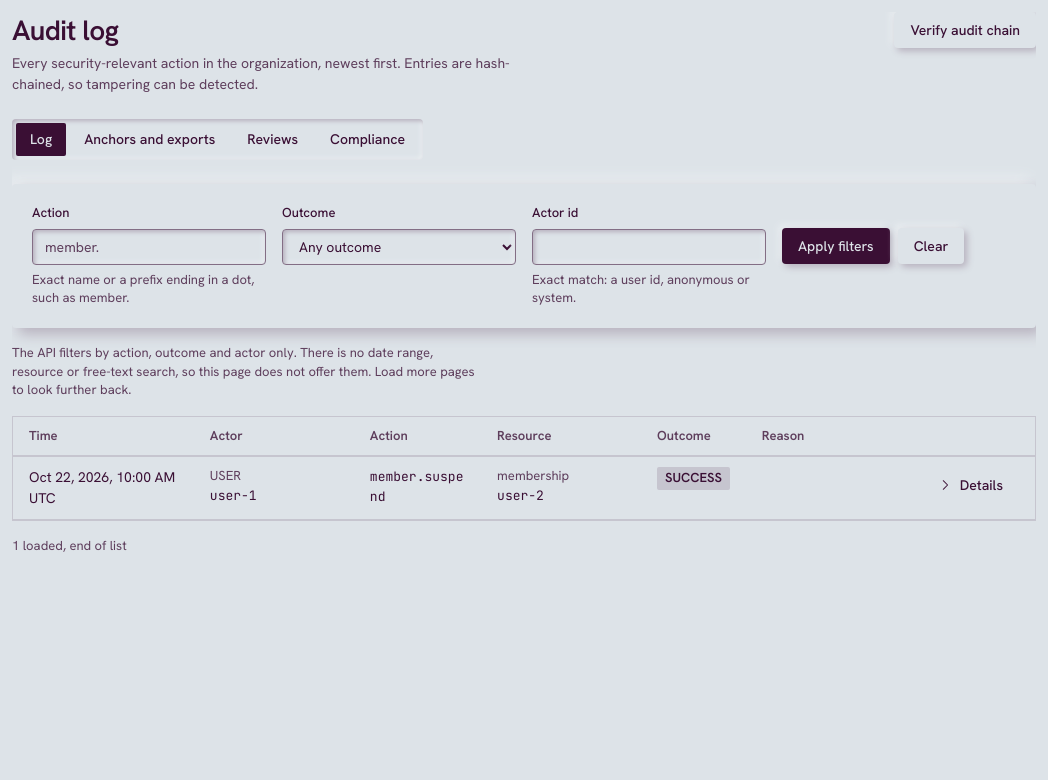
Test: AuditScreen › tells the user about a bad action filter and does not send it
Expected: the text "member.suspend" is shown, [354,456,481,520]
Type "Member-1" into the field labelled "Action" at (149, 247), box [32,229,266,265]
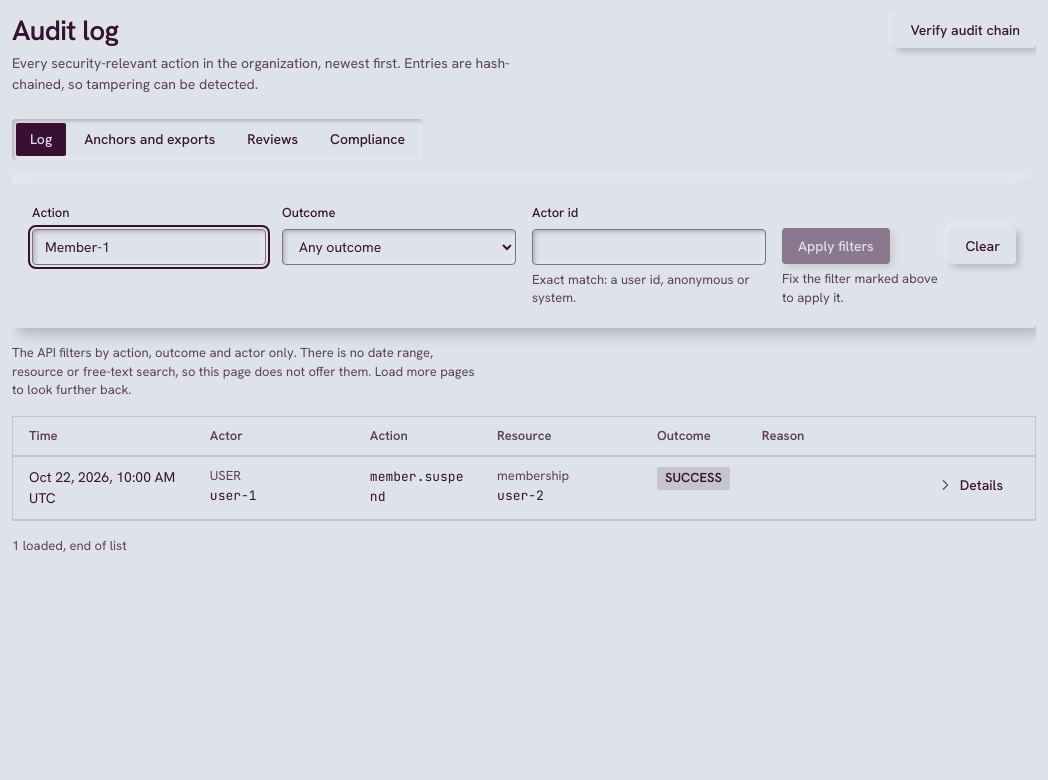
Press Tab
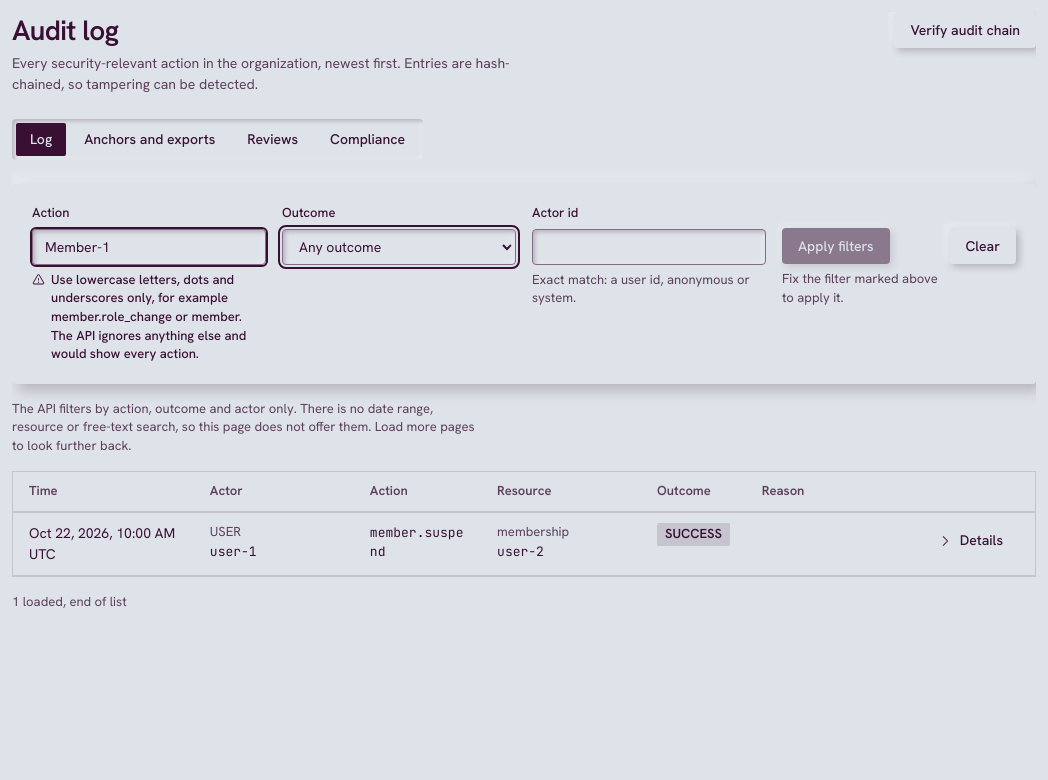
Now the button "Apply filters" is disabled, box [782,228,890,264]
Now the text "lowercase letters, dots and underscores" is shown, box [51,271,246,362]
